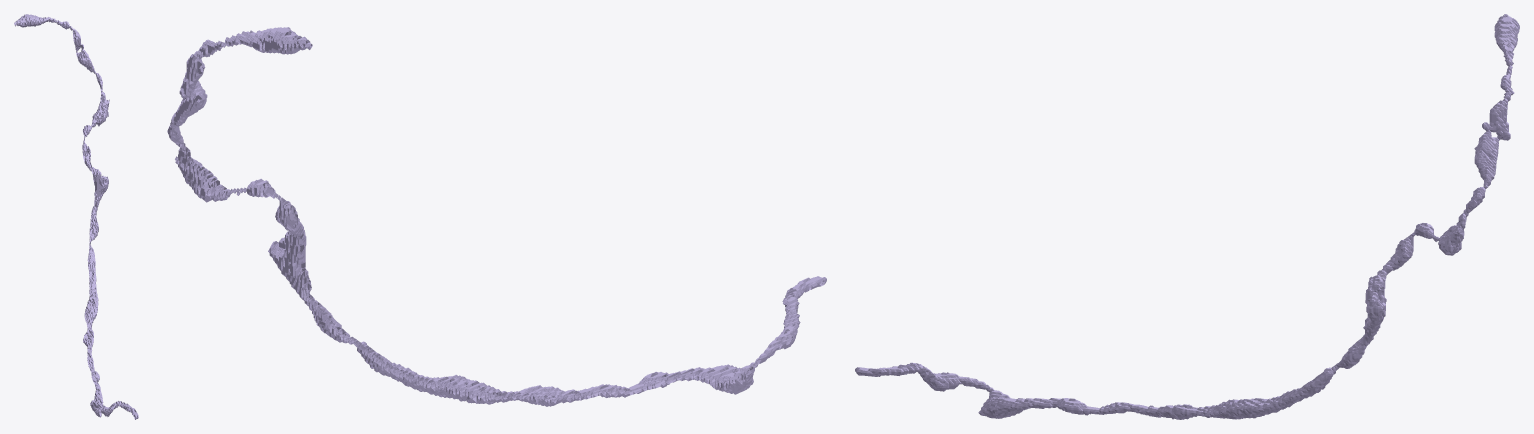
File: SVV_AIMR.gltf
3 views of the same model, side by side, from view 1: azimuth 30°, elevation 25°; view 2: azimuth 150°, elevation 25°; view 3: azimuth 270°, elevation 25° (orthographic). The views are drawn at different scales.
Parts seen in each view (by area): view 1: AIMR; view 2: AIMR; view 3: AIMR.
Boxes of the visible parts, x1,y1,x2,y2 form: AIMR: (14,14,138,419); AIMR: (167,27,826,406); AIMR: (855,14,1519,419).
Size of the model in its own units: 87373 by 143114 by 185531.
